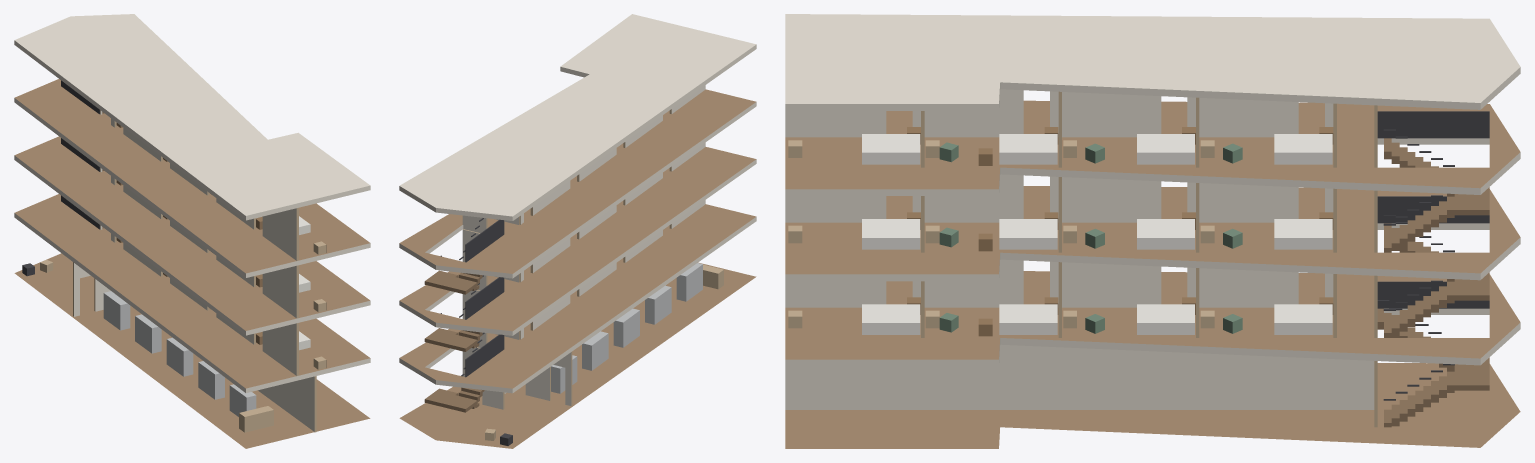
The model's file is interior.glb.
3 renders of one model, left to right at view 1: azimuth 30°, elevation 25°; view 2: azimuth 150°, elevation 25°; view 3: azimuth 270°, elevation 25°, orthographic. The views are drawn at different scales.
Visible parts, largest first — view 1: slabs, partitions, coarse-s0, stair, coarse-s2, coarse-s3, coarse-s1; view 2: slabs, partitions, stair, coarse-s0; view 3: slabs, partitions, stair, coarse-s2, coarse-s1, coarse-s3.
Part boxes in pixels (x1,y1,x2,y2): slabs: (14, 14, 370, 448); partitions: (73, 110, 316, 432); coarse-s0: (22, 259, 273, 432); stair: (61, 80, 104, 229); coarse-s2: (116, 180, 326, 312); coarse-s3: (116, 123, 326, 254); coarse-s1: (116, 238, 326, 369); slabs: (399, 14, 756, 448); partitions: (462, 85, 705, 409); stair: (424, 218, 504, 412); coarse-s0: (485, 263, 723, 445); slabs: (785, 14, 1520, 448); partitions: (785, 89, 1377, 427); stair: (1377, 111, 1489, 427); coarse-s2: (788, 212, 1333, 251); coarse-s1: (788, 297, 1333, 336); coarse-s3: (788, 127, 1333, 165).
Bounding box in the file's own units: 7.3 × 13.06 × 25.19.
